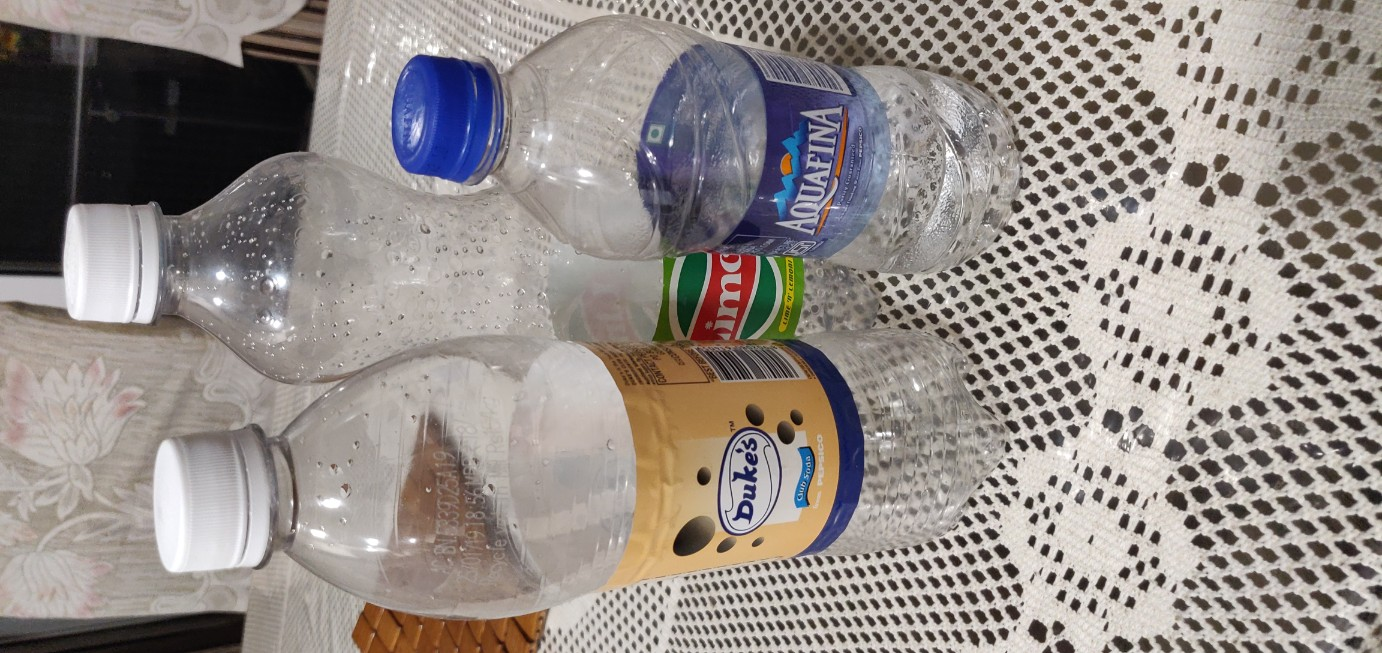Electronics: (112, 312, 1035, 640), (40, 109, 940, 415), (362, 5, 1054, 309)
